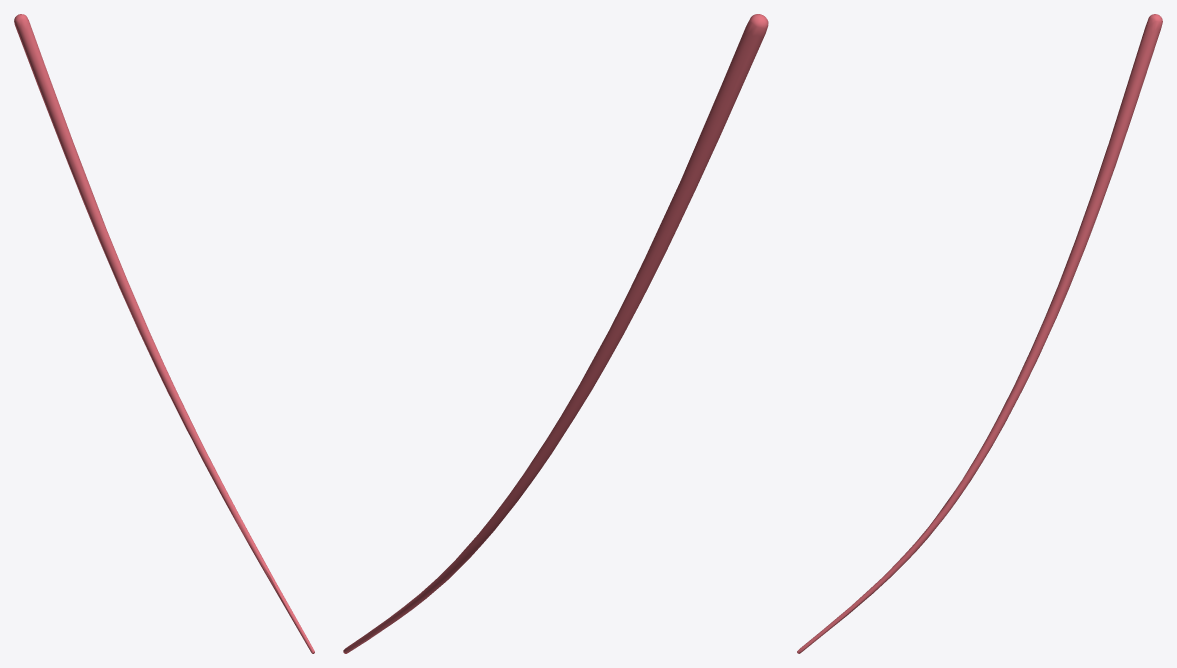
The model's file is fma23054_fj2368.glb.
3 renders of one model, left to right at view 1: azimuth 30°, elevation 25°; view 2: azimuth 210°, elevation 25°; view 3: azimuth 270°, elevation 25°, orthographic. The views are drawn at different scales.
Parts seen in each view (by area): view 1: FMA23054_FJ2368; view 2: FMA23054_FJ2368; view 3: FMA23054_FJ2368.
Boxes of the visible parts, x1,y1,x2,y2 form: FMA23054_FJ2368: (14,14,314,653); FMA23054_FJ2368: (343,14,768,653); FMA23054_FJ2368: (797,14,1162,653).
Size of the model in its own units: 0.0149 by 0.0593 by 0.0342.
